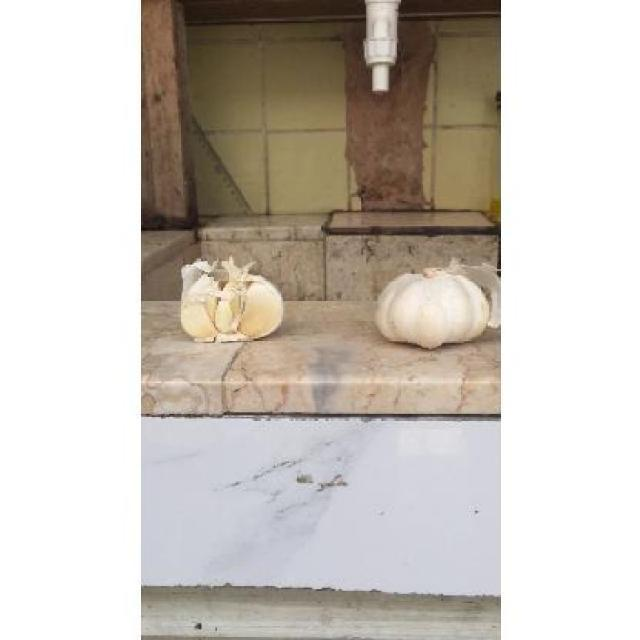garlic: (376, 269, 490, 348), (181, 258, 282, 342)
